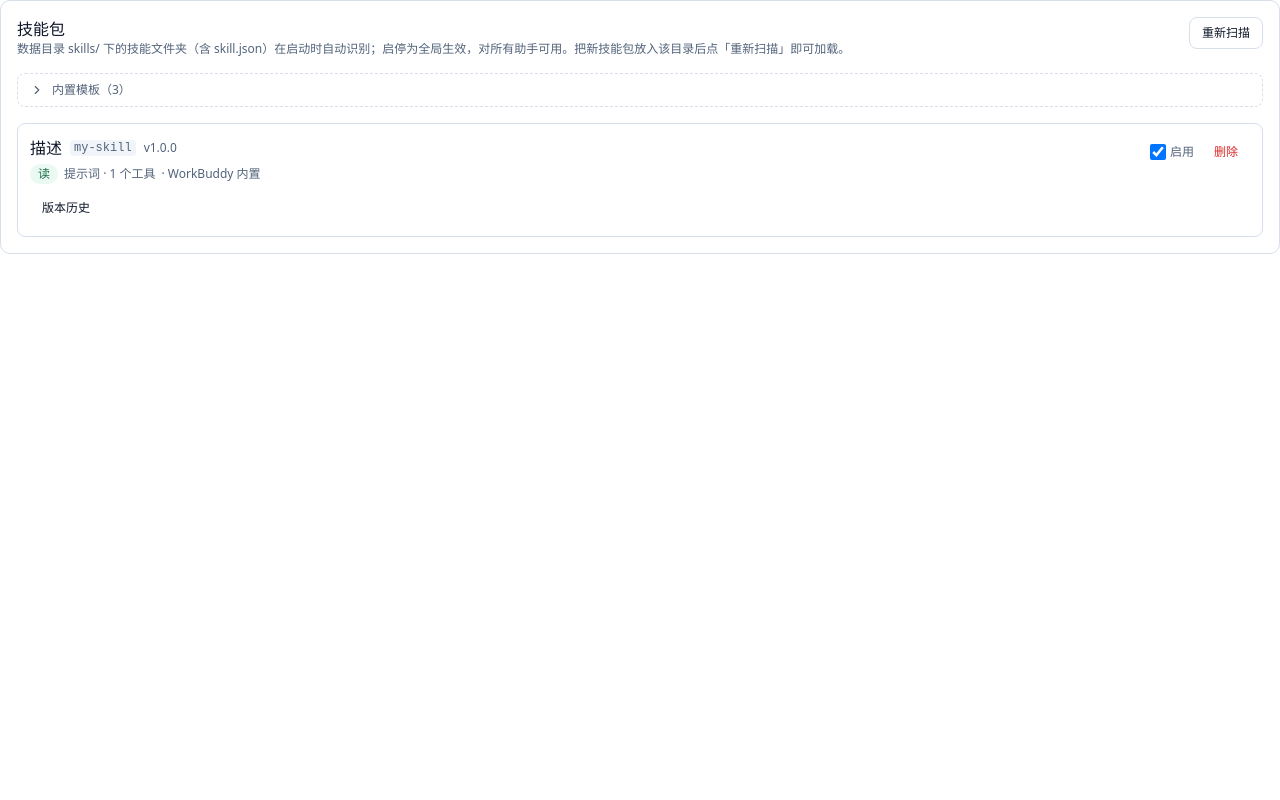
Scenario: 技能包面板（v0.6 M3） › 重新扫描：POST /api/skills 后刷新列表（v2.3）
Expected: the number of list items with test id "skill-item" is 1, [17,123,1263,237]
Step 1. Click the button "重新扫描" → (1226, 33), box [1189,17,1263,49]
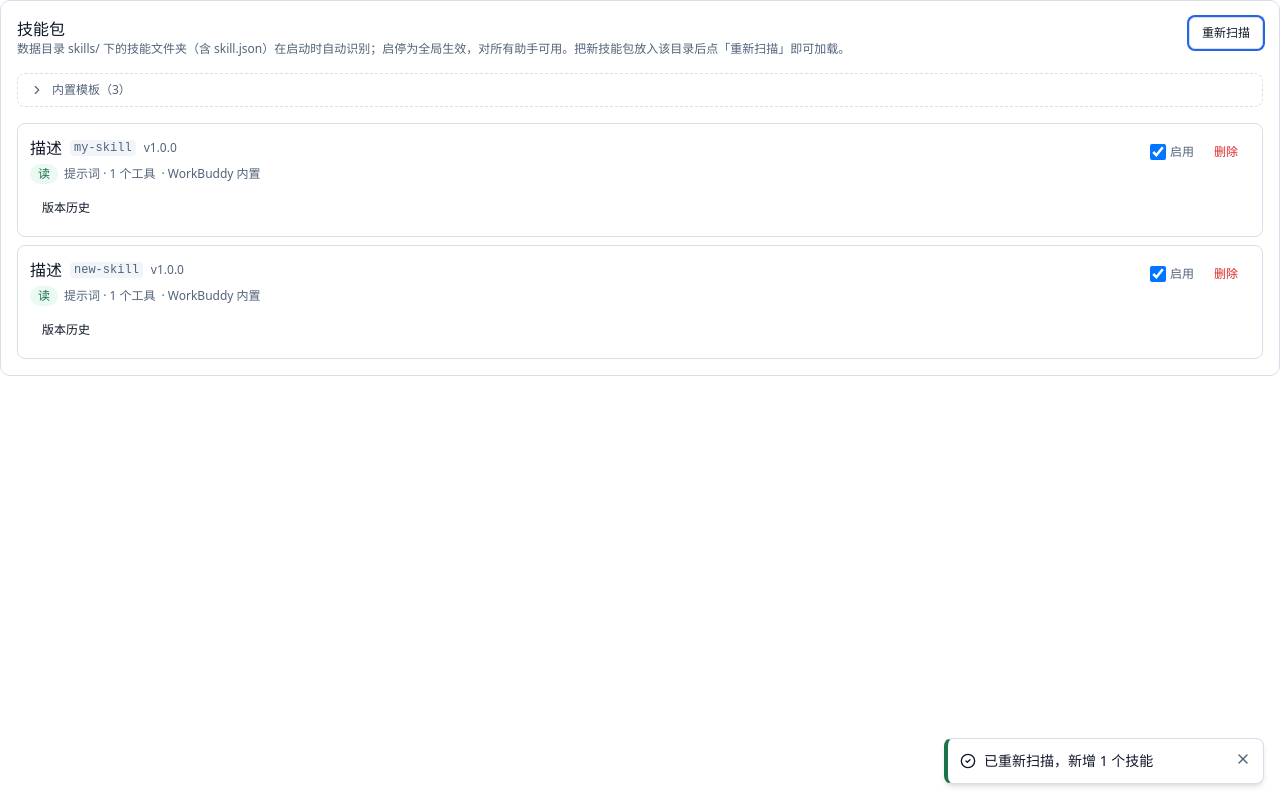
Now the number of list items with test id "skill-item" is 2, box [17,123,1263,237]; [17,245,1263,359]
